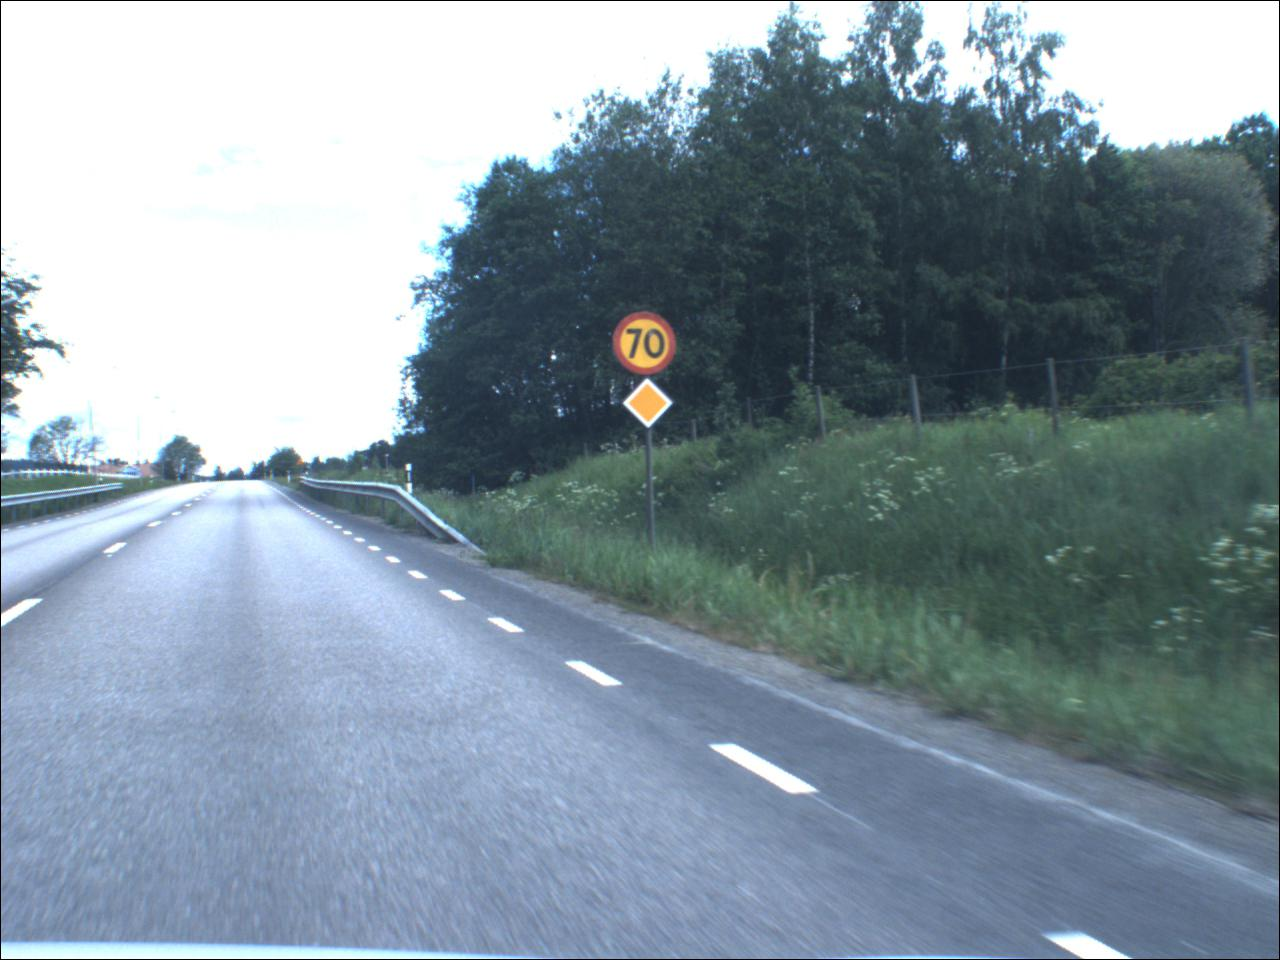70_SIGN: (613, 310, 681, 376)
PRIORITY_ROAD: (620, 377, 679, 431)
